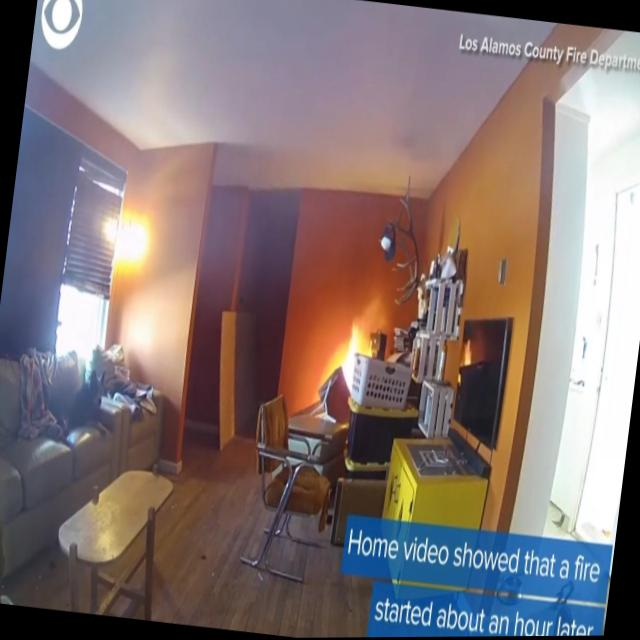fire: (336, 320, 374, 398)
